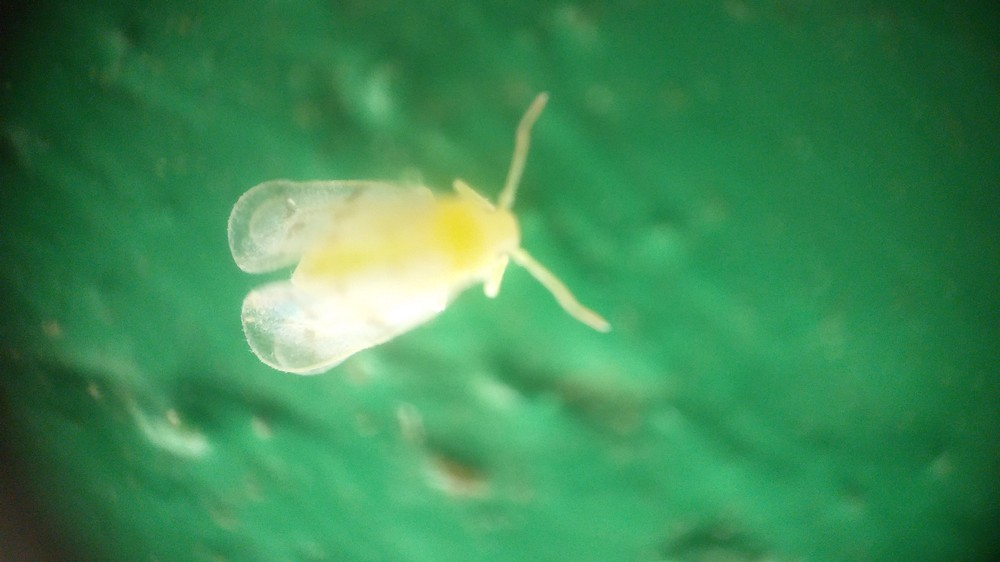Mosca Blanca: (214, 86, 627, 389)
